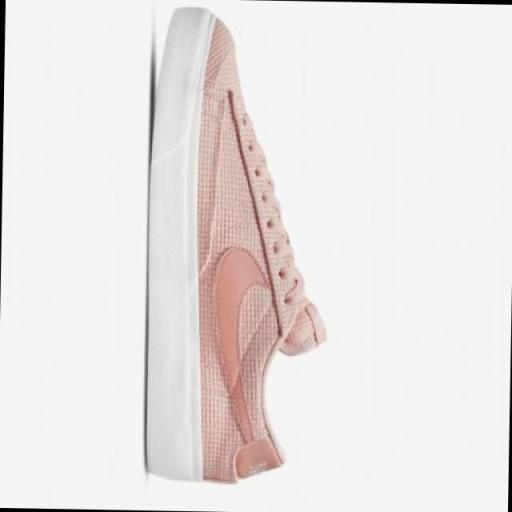Nike: (207, 238, 267, 456)
